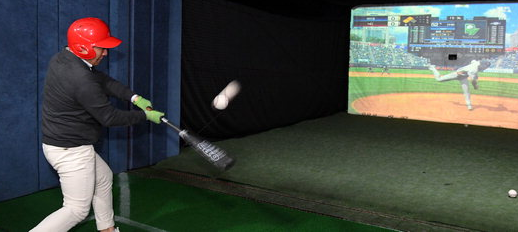ball: (210, 90, 232, 110)
